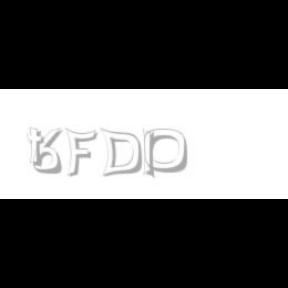6: (34, 128, 62, 176)
D: (100, 128, 142, 178)
F: (65, 128, 97, 178)
O: (144, 128, 188, 174)
l: (143, 128, 159, 180)
t: (27, 128, 49, 168)
